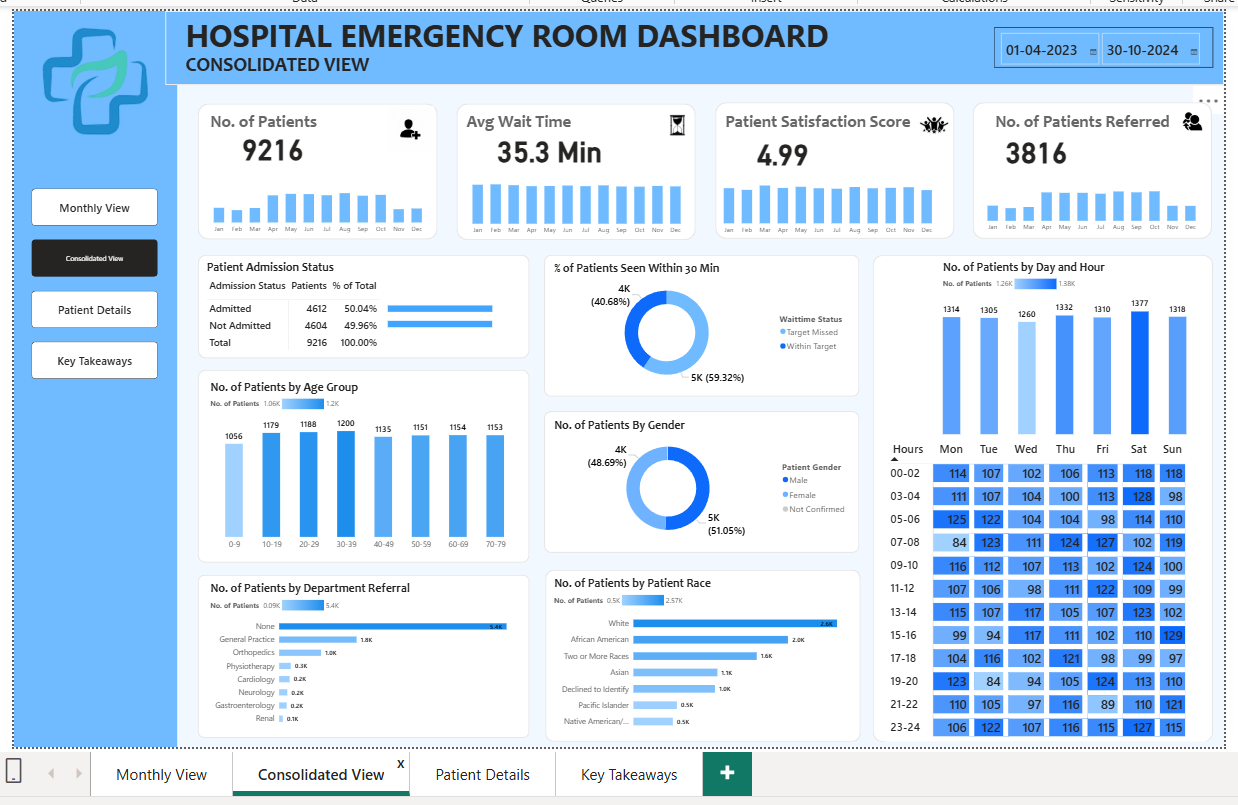

What the dashboard file says about the page in this screenshot:
{"tool":"powerbi","page":{"name":"Consolidated View","canvas":[2300,1400],"ordinal":1},"visuals":[{"type":"shape","box":[0,0,310.7,1400.5],"z":0},{"type":"shape","box":[288.5,0,2012,140.5],"z":1000},{"type":"textbox","box":[320.5,0,1237.8,96.2],"z":2000},{"type":"textbox","box":[320.5,74,369.9,66.6],"z":3000},{"type":"shape","box":[350.1,175.1,456.2,258.9],"z":4000},{"type":"card","fields":{"Values":["Hospital ER_Data.No. of Patients"]},"box":[394.5,221.9,194.8,74],"z":5000},{"type":"slicer","fields":{"Values":["Date Table.Date"]},"box":[1864.1,32.1,416.7,76.4],"z":6000},{"type":"textbox","box":[362.5,184.9,254,54.2],"z":7000},{"type":"columnChart","fields":{"Category":["Date Table.Month Name"],"Y":["Hospital ER_Data.No. of Patients"]},"box":[362.5,305.7,434,125.8],"z":8000},{"type":"shape","box":[842.4,175.1,455,260],"z":9000},{"type":"card","fields":{"Values":["Hospital ER_Data.Avg Wait Time"]},"box":[890.1,229.3,258.9,66.6],"z":10000},{"type":"textbox","box":[840.8,184.9,246.6,64.1],"z":11000},{"type":"columnChart","fields":{"Category":["Date Table.Month Name"],"Y":["Avg(Hospital ER_Data.Patient Waittime)"]},"box":[853.1,308.2,434,125.8],"z":12000},{"type":"shape","box":[1333.5,172.6,455,260],"z":13000},{"type":"card","fields":{"Values":["Avg(Hospital ER_Data.Patient Satisfaction Score)"]},"box":[1366,231.8,194.8,74],"z":14000},{"type":"textbox","box":[1333.9,184.9,394.5,64.1],"z":15000},{"type":"columnChart","fields":{"Category":["Date Table.Month Name"],"Y":["Hospital ER_Data.Satisfaction Score"]},"box":[1332,308.2,434,125],"z":16000},{"type":"shape","box":[1824.6,172.6,455,260],"z":17000},{"type":"card","fields":{"Values":["Hospital ER_Data.No. of Patients Referred"]},"box":[1846.8,226.8,194.8,74],"z":18000},{"type":"shape","box":[350.1,463.6,631.2,197.3],"z":19000},{"type":"textbox","box":[1846.8,184.9,372.3,61.6],"z":20000},{"type":"columnChart","fields":{"Category":["Date Table.Month Name"],"Y":["Hospital ER_Data.No. of Patients Referred"]},"box":[1832.5,303.3,434,125],"z":21000},{"type":"pivotTable","title":"Patient Admission Status","fields":{"Rows":["Hospital ER_Data.Admission Status"],"Values":["Hospital ER_Data.No. of Patients1","Hospital ER_Data.No. of Patients"]},"box":[362.5,473.4,601.6,177.5],"z":22000},{"type":"barChart","fields":{"Category":["Hospital ER_Data.Admission Status"],"Y":["Hospital ER_Data.No. of Patients"]},"box":[705.2,532.6,268.8,91.2],"z":23000},{"type":"shape","box":[350.1,683,631.2,367.4],"z":24000},{"type":"clusteredColumnChart","fields":{"Category":["Hospital ER_Data.Age Group"],"Y":["Hospital ER_Data.No. of Patients"]},"box":[367.4,700.3,599.2,332.9],"z":25000},{"type":"shape","box":[350.1,1072.6,631.2,310.7],"z":26000},{"type":"clusteredBarChart","fields":{"Category":["Hospital ER_Data.Department Referral"],"Y":["Hospital ER_Data.No. of Patients"]},"box":[367.4,1084.9,596.7,283.6],"z":27000},{"type":"shape","box":[1008.5,463.6,600,270],"z":28000},{"type":"donutChart","title":"% of Patients Seen Within 30 Min","fields":{"Category":["Hospital ER_Data.Waittime Status"],"Y":["Hospital ER_Data.No. of Patients"]},"box":[1022.5,475,572.5,245],"z":29000},{"type":"shape","box":[1007.5,760,600,270],"z":30000},{"type":"donutChart","title":"No. of Patients By Gender","fields":{"Y":["Hospital ER_Data.No. of Patients"],"Category":["Hospital ER_Data.Patient Gender"]},"box":[1022.5,772.5,572.5,242.5],"z":31000},{"type":"shape","box":[1010,1062.5,600,327.5],"z":32000},{"type":"clusteredBarChart","fields":{"Y":["Hospital ER_Data.No. of Patients"],"Category":["Hospital ER_Data.Patient Race"]},"box":[1022.5,1075,572.5,302.5],"z":33000},{"type":"shape","box":[1632.5,462.5,647.5,927.5],"z":34000},{"type":"pivotTable","fields":{"Rows":["Hospital ER_Data.Waittime Interval"],"Columns":["Date Table.Day Name"],"Values":["Hospital ER_Data.No. of Patients"]},"box":[1657,811.2,609,579.4],"z":35000},{"type":"columnChart","title":"No. of Patients by Day and Hour","fields":{"Category":["Date Table.Day Name"],"Y":["Hospital ER_Data.No. of Patients"]},"box":[1763,473.4,475.9,337.8],"z":36000},{"type":"image","box":[690.4,175.1,128.2,98.6],"z":37000},{"type":"image","box":[1235.3,184.9,51.8,64.1],"z":38000},{"type":"image","box":[1708.7,180,81.4,74],"z":39000},{"type":"image","box":[2219.1,180,46.8,59.2],"z":40000},{"type":"image","box":[34.5,22.2,241.6,224.4],"z":41000},{"type":"pageNavigator","box":[33.3,337.6,240.2,363.8],"z":42000}]}

Visuals, with their boxes on the page's 2300x1400 design canvas (x1, y1, x2, y2). These are canvas units, not pixel positions in the 1238x805 screenshot, which may show the page scaled, cropped or inside an application window:
shape: [x1=0, y1=0, x2=311, y2=1400]
shape: [x1=288, y1=0, x2=2300, y2=140]
textbox: [x1=320, y1=0, x2=1558, y2=96]
textbox: [x1=320, y1=74, x2=690, y2=141]
shape: [x1=350, y1=175, x2=806, y2=434]
card - Hospital ER_Data.No. of Patients: [x1=394, y1=222, x2=589, y2=296]
slicer - Date Table.Date: [x1=1864, y1=32, x2=2281, y2=108]
textbox: [x1=362, y1=185, x2=616, y2=239]
columnChart - Date Table.Month Name x Hospital ER_Data.No. of Patients: [x1=362, y1=306, x2=796, y2=432]
shape: [x1=842, y1=175, x2=1297, y2=435]
card - Hospital ER_Data.Avg Wait Time: [x1=890, y1=229, x2=1149, y2=296]
textbox: [x1=841, y1=185, x2=1087, y2=249]
columnChart - Date Table.Month Name x Avg(Hospital ER_Data.Patient Waittime): [x1=853, y1=308, x2=1287, y2=434]
shape: [x1=1334, y1=173, x2=1788, y2=433]
card - Avg(Hospital ER_Data.Patient Satisfaction Score): [x1=1366, y1=232, x2=1561, y2=306]
textbox: [x1=1334, y1=185, x2=1728, y2=249]
columnChart - Date Table.Month Name x Hospital ER_Data.Satisfaction Score: [x1=1332, y1=308, x2=1766, y2=433]
shape: [x1=1825, y1=173, x2=2280, y2=433]
card - Hospital ER_Data.No. of Patients Referred: [x1=1847, y1=227, x2=2042, y2=301]
shape: [x1=350, y1=464, x2=981, y2=661]
textbox: [x1=1847, y1=185, x2=2219, y2=246]
columnChart - Date Table.Month Name x Hospital ER_Data.No. of Patients Referred: [x1=1832, y1=303, x2=2266, y2=428]
"Patient Admission Status" pivotTable: [x1=362, y1=473, x2=964, y2=651]
barChart - Hospital ER_Data.Admission Status x Hospital ER_Data.No. of Patients: [x1=705, y1=533, x2=974, y2=624]
shape: [x1=350, y1=683, x2=981, y2=1050]
clusteredColumnChart - Hospital ER_Data.Age Group x Hospital ER_Data.No. of Patients: [x1=367, y1=700, x2=967, y2=1033]
shape: [x1=350, y1=1073, x2=981, y2=1383]
clusteredBarChart - Hospital ER_Data.Department Referral x Hospital ER_Data.No. of Patients: [x1=367, y1=1085, x2=964, y2=1368]
shape: [x1=1008, y1=464, x2=1608, y2=734]
"% of Patients Seen Within 30 Min" donutChart: [x1=1022, y1=475, x2=1595, y2=720]
shape: [x1=1008, y1=760, x2=1608, y2=1030]
"No. of Patients By Gender" donutChart: [x1=1022, y1=772, x2=1595, y2=1015]
shape: [x1=1010, y1=1062, x2=1610, y2=1390]
clusteredBarChart - Hospital ER_Data.No. of Patients x Hospital ER_Data.Patient Race: [x1=1022, y1=1075, x2=1595, y2=1378]
shape: [x1=1632, y1=462, x2=2280, y2=1390]
pivotTable - Hospital ER_Data.Waittime Interval x Date Table.Day Name: [x1=1657, y1=811, x2=2266, y2=1391]
"No. of Patients by Day and Hour" columnChart: [x1=1763, y1=473, x2=2239, y2=811]
image: [x1=690, y1=175, x2=819, y2=274]
image: [x1=1235, y1=185, x2=1287, y2=249]
image: [x1=1709, y1=180, x2=1790, y2=254]
image: [x1=2219, y1=180, x2=2266, y2=239]
image: [x1=34, y1=22, x2=276, y2=247]
pageNavigator: [x1=33, y1=338, x2=274, y2=701]
